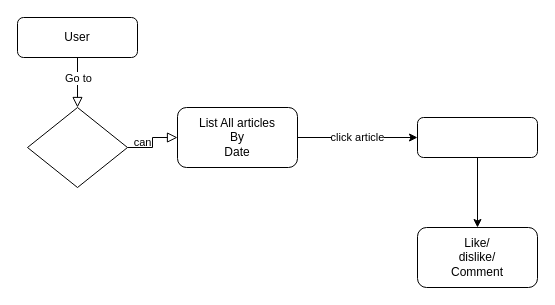
The diagram is 555 pixels wide and 305 high, and some of its shapes have lost their labels. Each missing label, with the centre of its shape:
Blog: point 77,147
Detail article: point 477,137
